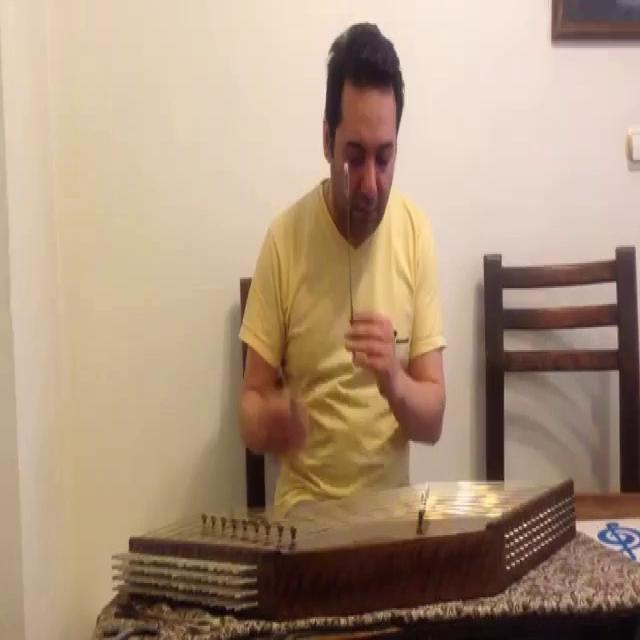Flute: (124, 482, 578, 602)
